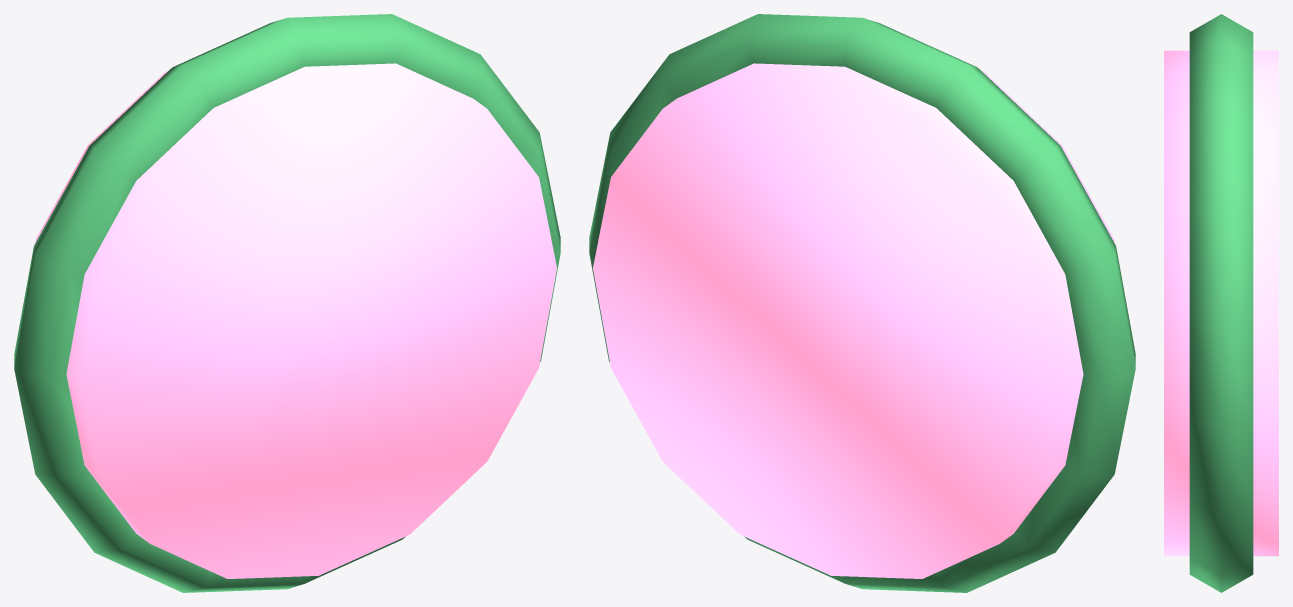
Rendered from watermelon_item.glb.
The picture shows the model from 3 angles, left to right: view 1: azimuth 30°, elevation 25°; view 2: azimuth 150°, elevation 25°; view 3: azimuth 270°, elevation 25°; orthographic projection. The views are drawn at different scales.
Visible parts, largest first — view 1: Cylinder, Torus.003; view 2: Cylinder, Torus.003; view 3: Torus.003, Cylinder.
Boxes of the visible parts, bbox=[...] form: Cylinder: bbox=[35, 63, 556, 578]; Torus.003: bbox=[14, 14, 560, 592]; Cylinder: bbox=[593, 63, 1114, 578]; Torus.003: bbox=[589, 14, 1135, 592]; Torus.003: bbox=[1189, 14, 1253, 592]; Cylinder: bbox=[1164, 50, 1278, 556].
Size of the model in its own units: 1.26 by 1.26 by 0.25.
